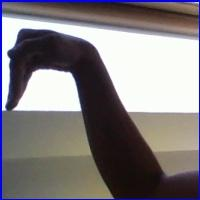A: (1, 25, 97, 118)
